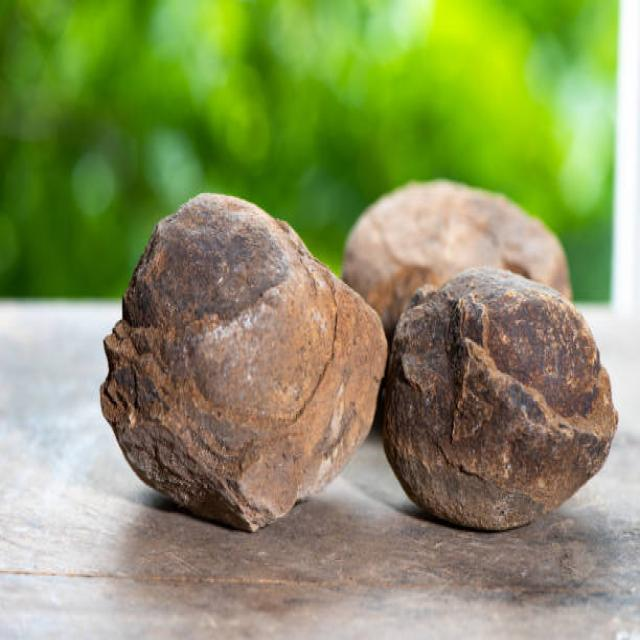Sedimentary: (101, 187, 391, 526), (384, 268, 627, 532)
